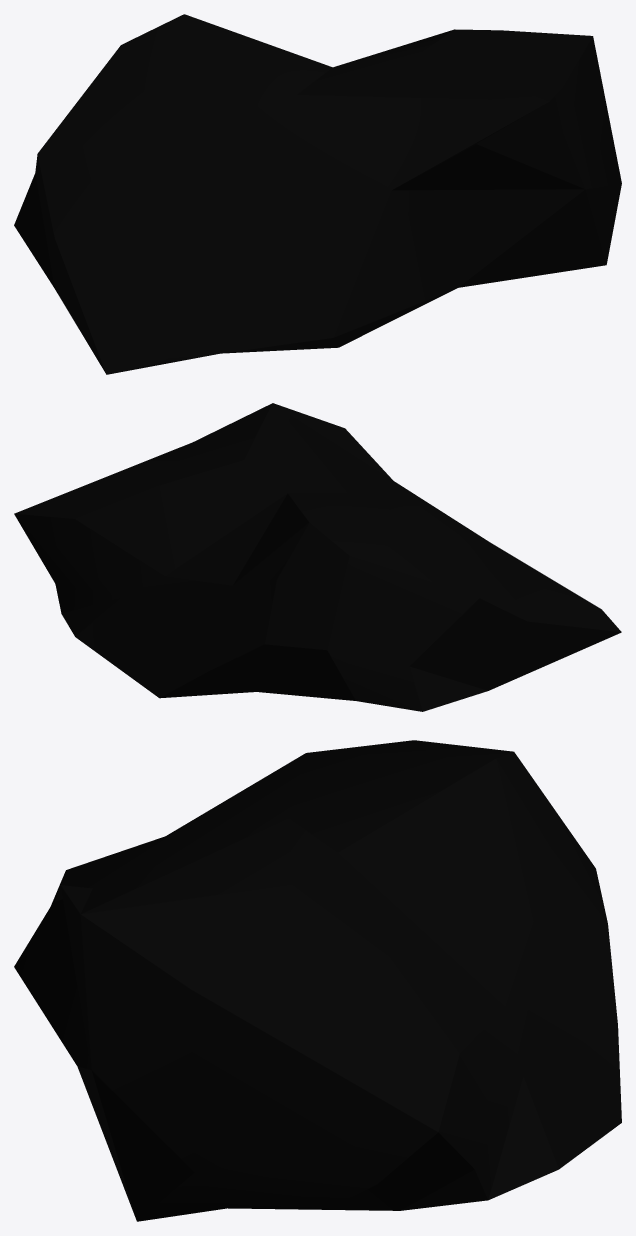
File: Stone_1c.fbx
3 renders of one model, top to bottom at view 1: azimuth 30°, elevation 25°; view 2: azimuth 150°, elevation 25°; view 3: azimuth 270°, elevation 25°, orthographic. The views are drawn at different scales.
Parts seen in each view (by area): view 1: Stone_1c; view 2: Stone_1c; view 3: Stone_1c.
Part boxes in pixels (left/top/right/bottom): Stone_1c: left=14, top=14, right=621, bottom=374; Stone_1c: left=14, top=403, right=621, bottom=711; Stone_1c: left=14, top=740, right=621, bottom=1221.
Bounding box in the file's own units: 24.97 × 8.91 × 16.41.
Materials: 1 (1 with a texture image).
